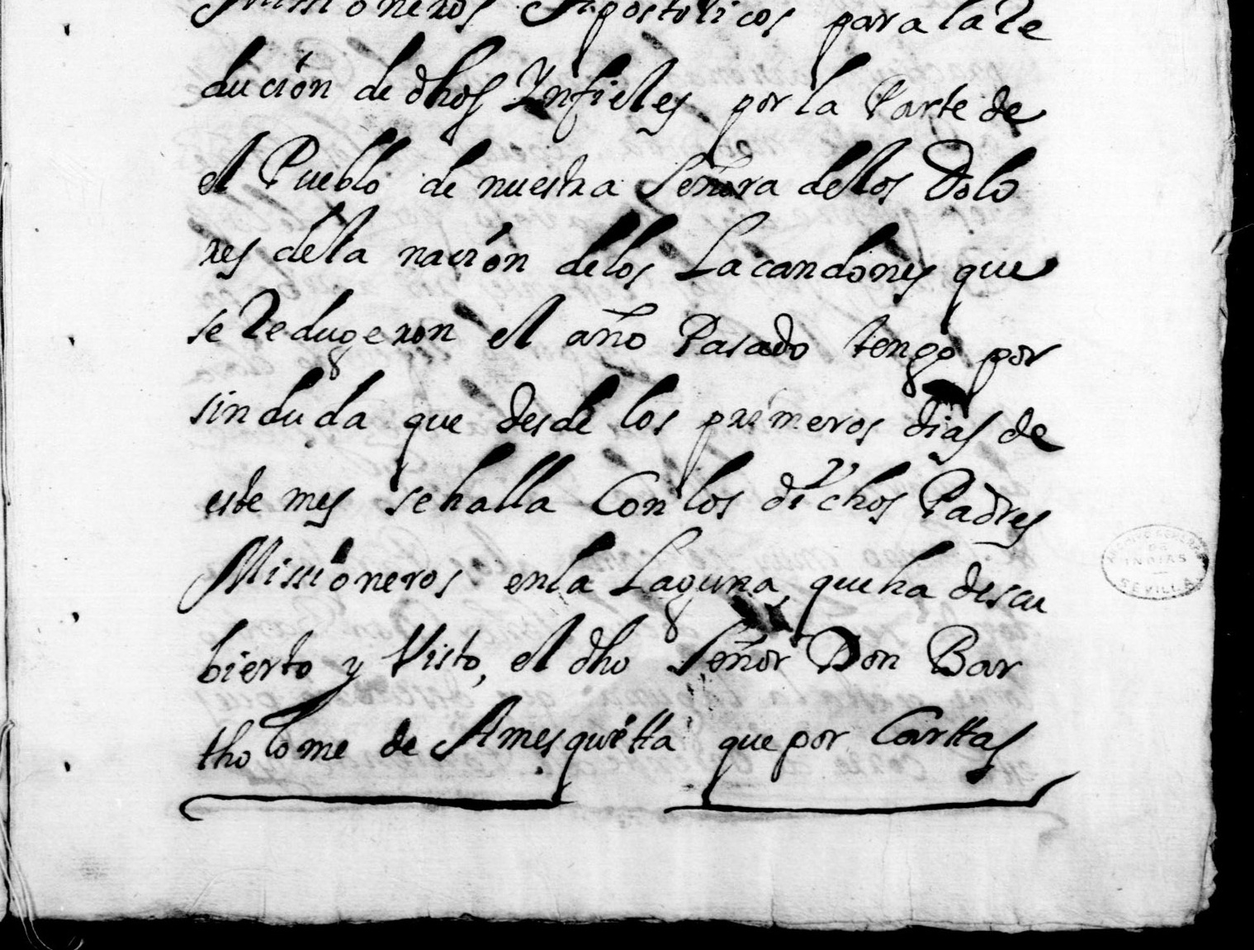lacandon: (674, 211, 937, 306)
